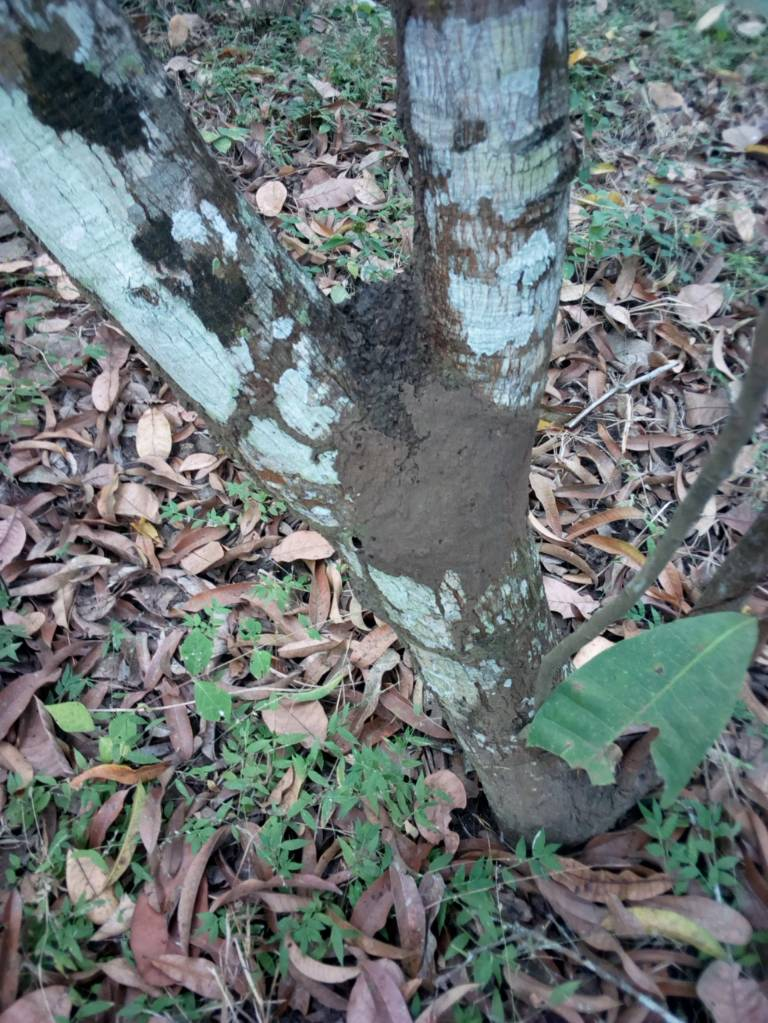Termites: (340, 389, 543, 594), (224, 333, 321, 450), (504, 766, 616, 836)
